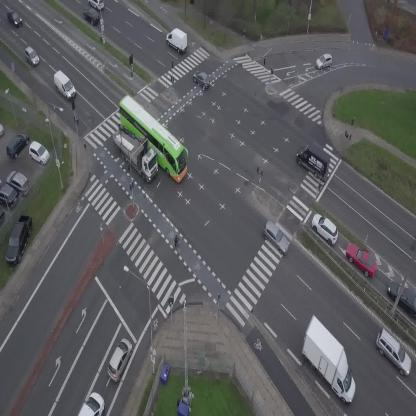bicycle: (170, 234, 184, 253)
bus: (107, 91, 199, 184)
car: (341, 238, 383, 282), (102, 336, 137, 384), (306, 209, 344, 247), (257, 220, 294, 256), (78, 392, 104, 416), (79, 4, 104, 28), (190, 66, 214, 90), (20, 45, 42, 69), (3, 7, 25, 29), (313, 52, 334, 71), (88, 0, 105, 12)
lorry: (286, 314, 374, 407), (104, 121, 168, 184), (291, 140, 338, 183), (49, 69, 80, 100), (162, 25, 193, 55)
